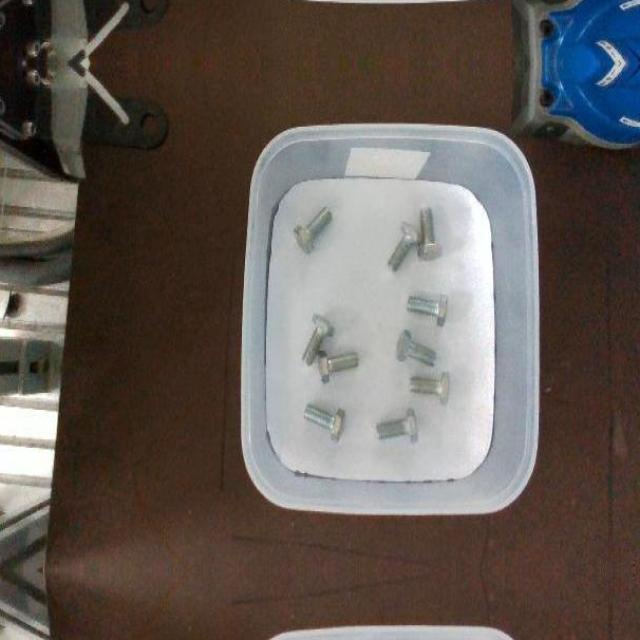screw: (387, 220, 422, 273), (302, 313, 335, 366), (294, 207, 332, 253), (304, 402, 346, 442), (395, 329, 437, 366), (375, 406, 417, 442), (317, 348, 358, 384), (416, 207, 442, 260), (407, 294, 448, 326), (409, 371, 449, 403)
